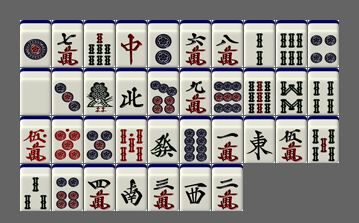0m: (20, 116, 51, 163)
0p: (52, 116, 83, 163)
0s: (116, 116, 147, 163)
1m: (212, 116, 243, 163)
1p: (20, 20, 51, 67)
1s: (84, 68, 115, 115)
1z: (244, 116, 275, 163)
2m: (212, 164, 243, 211)
2p: (148, 20, 179, 67)
2s: (244, 20, 275, 67)
2z: (116, 164, 147, 211)
3m: (148, 164, 179, 211)
3p: (52, 68, 83, 115)
3s: (20, 164, 51, 211)
3z: (180, 164, 211, 211)
4m: (84, 164, 115, 211)
4p: (308, 20, 339, 67)
4s: (308, 68, 339, 115)
4z: (116, 68, 147, 115)
5m: (276, 116, 307, 163)
5p: (84, 116, 115, 163)
5s: (308, 116, 339, 163)
5z: (20, 68, 51, 115)
6m: (180, 20, 211, 67)
6p: (52, 164, 83, 211)
6s: (276, 20, 307, 67)
6z: (148, 116, 179, 163)
7m: (52, 20, 83, 67)
7p: (148, 68, 179, 115)
7s: (84, 20, 115, 67)
7z: (116, 20, 147, 67)
8m: (212, 20, 243, 67)
8p: (180, 116, 211, 163)
8s: (276, 68, 307, 115)
9m: (180, 68, 211, 115)
9p: (212, 68, 243, 115)
9s: (244, 68, 275, 115)
